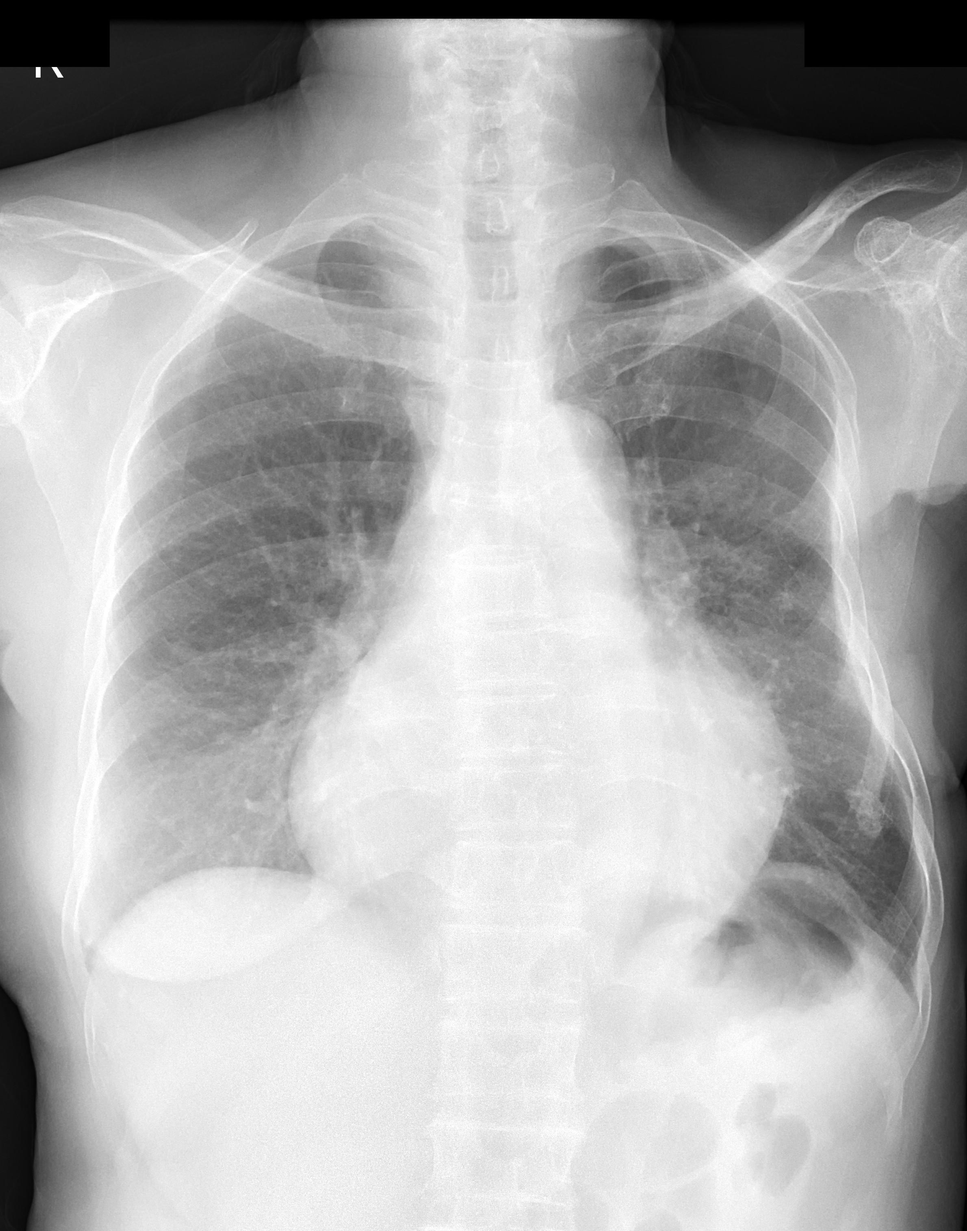Cardiomegaly: (278, 732, 790, 926)
